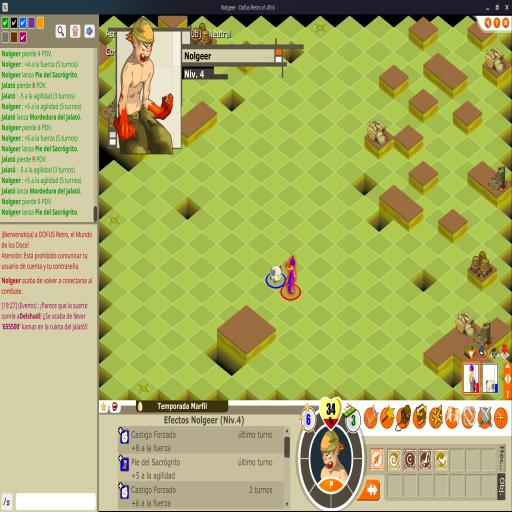Enemigos: (270, 265, 282, 283)
Personaje: (284, 254, 296, 294)
